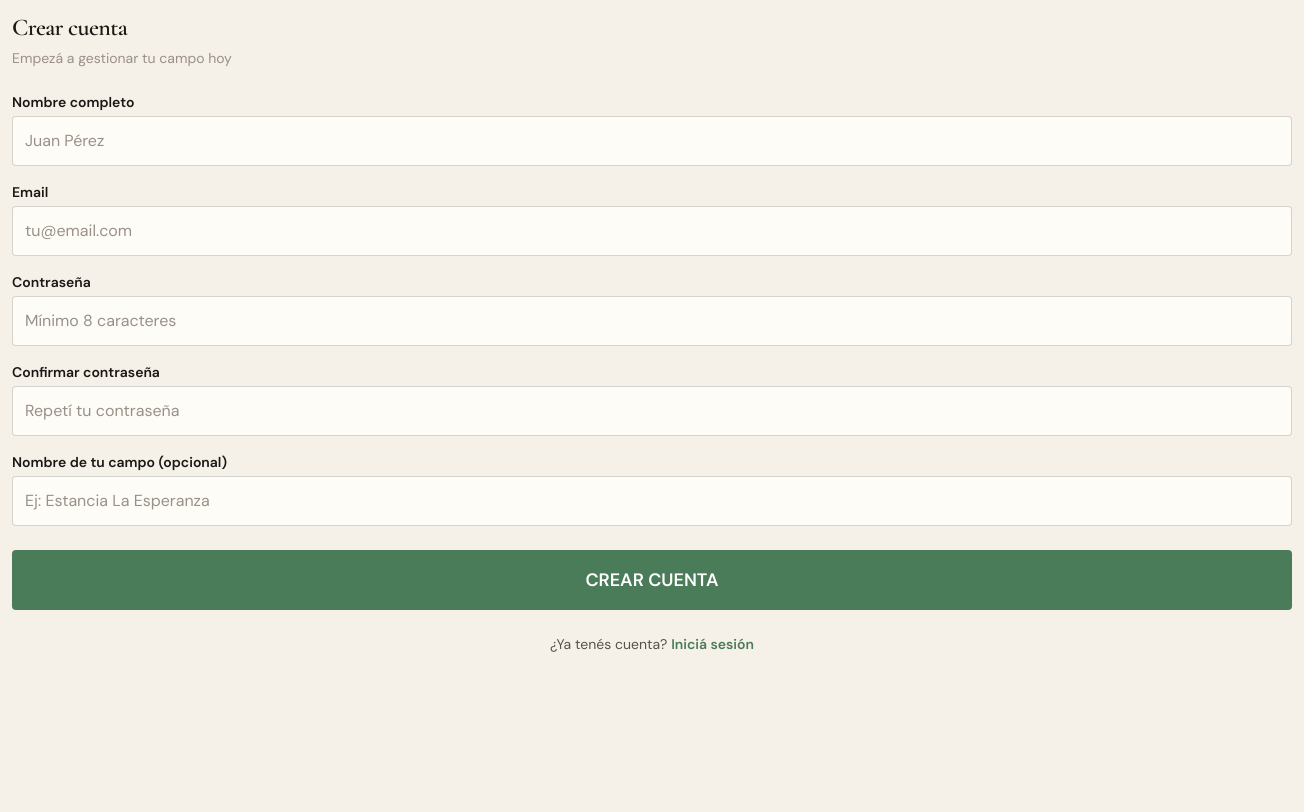
Test: RegisterPage › shows error when password is too short
Type "1234567" into the password field labelled "Contraseña".
click(652, 321); type("1234567")  # box 12,296 -> 1292,346
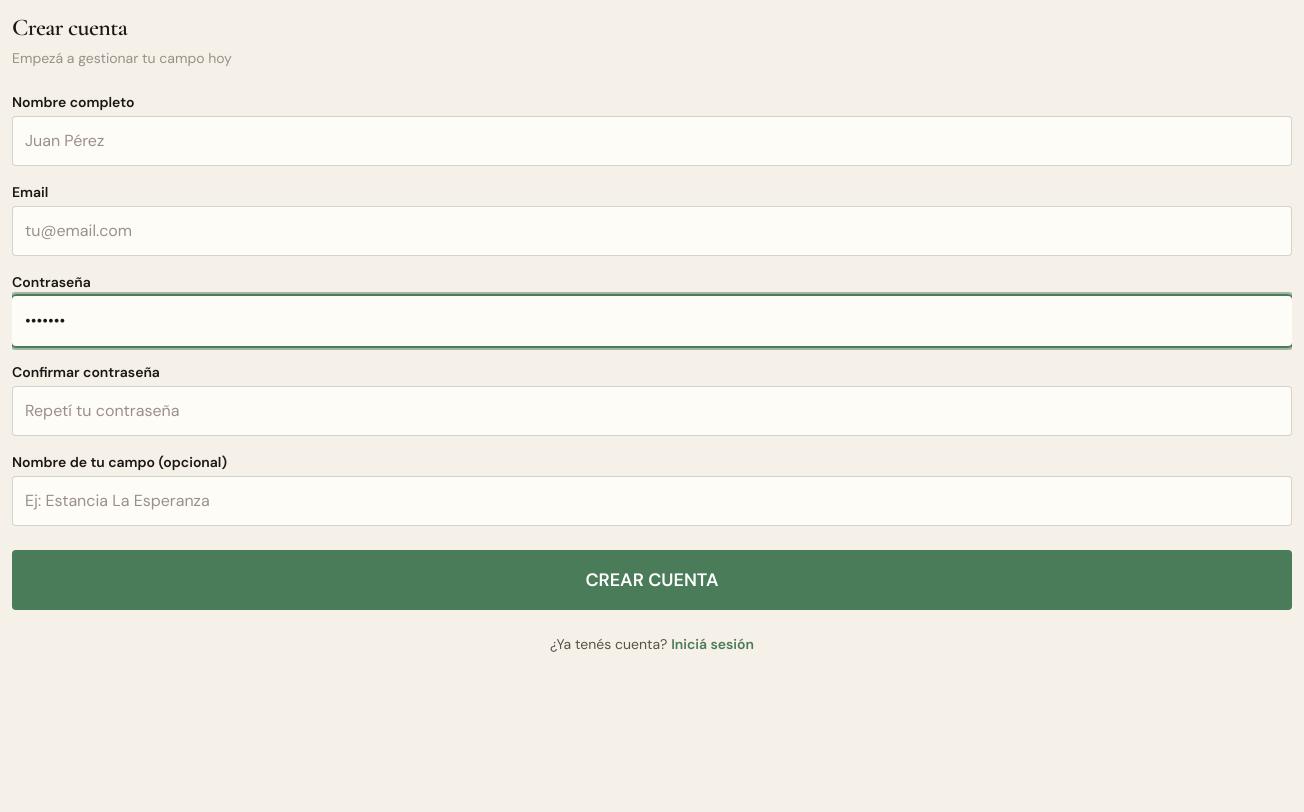
Click the button "CREAR CUENTA".
click(652, 580)  # box 12,550 -> 1292,610
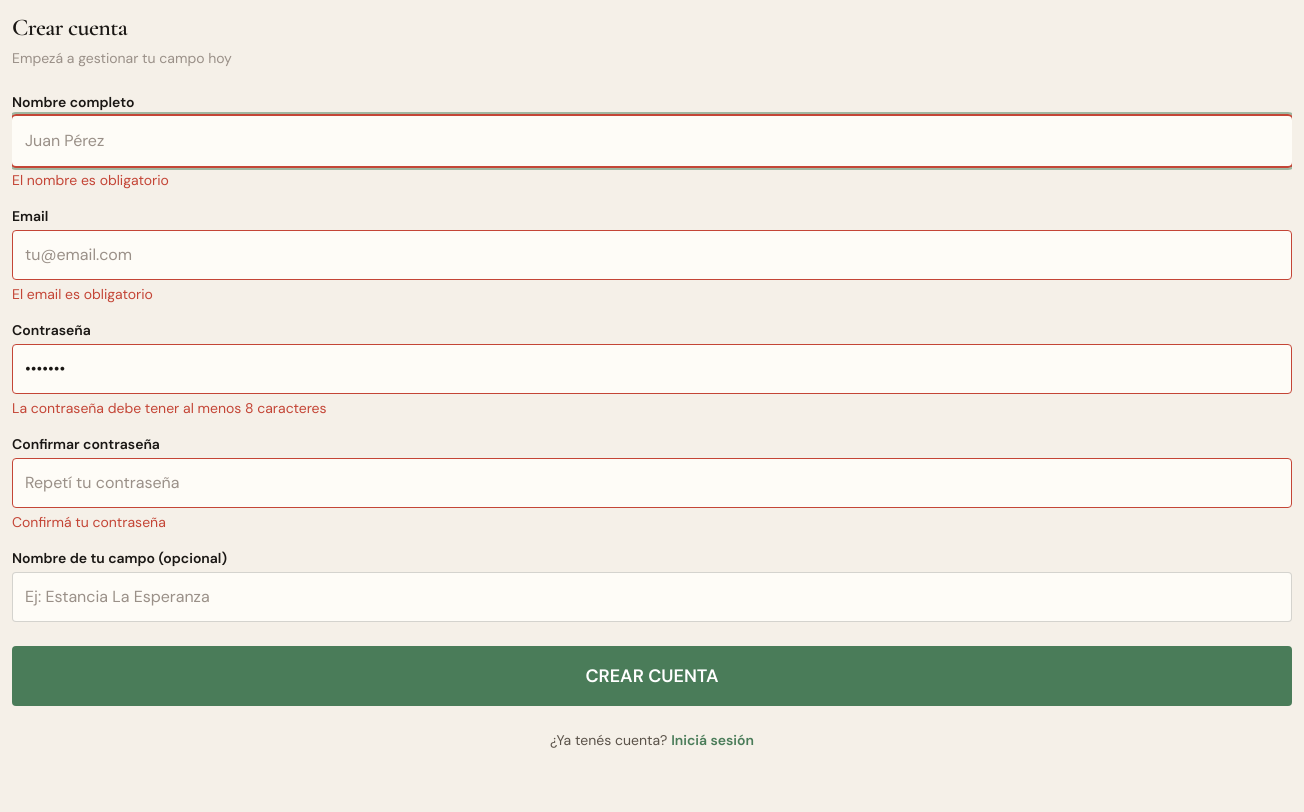
Now the text "La contraseña debe tener al menos 8 caracteres" is shown, box 12,399 -> 327,417
